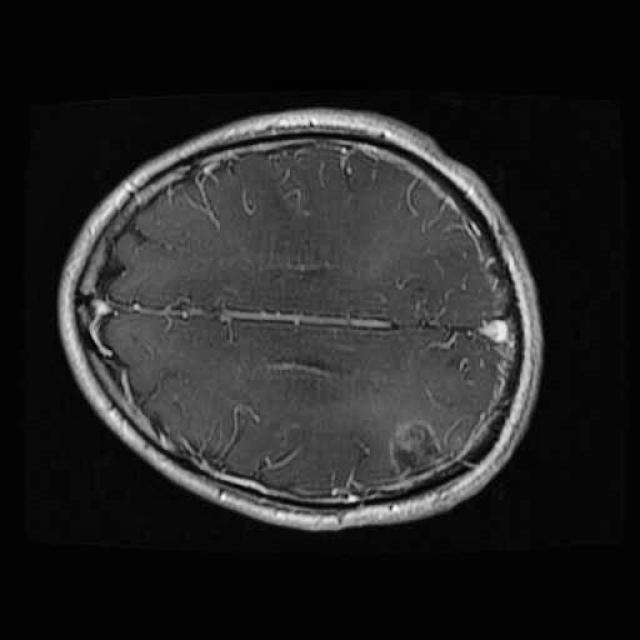Tumor: (378, 410, 453, 485)
